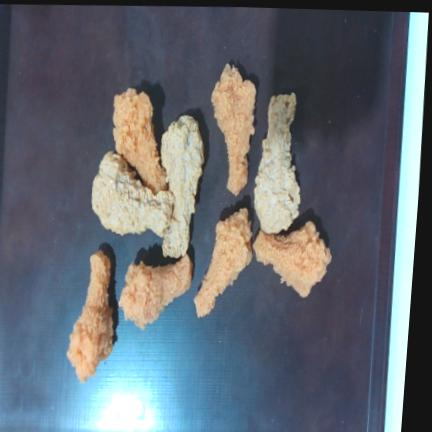chicken: (91, 151, 174, 236), (254, 92, 300, 233), (66, 250, 113, 383), (194, 208, 251, 317), (160, 115, 203, 257), (253, 221, 330, 296), (211, 64, 255, 195), (112, 88, 166, 193), (118, 254, 192, 328)
